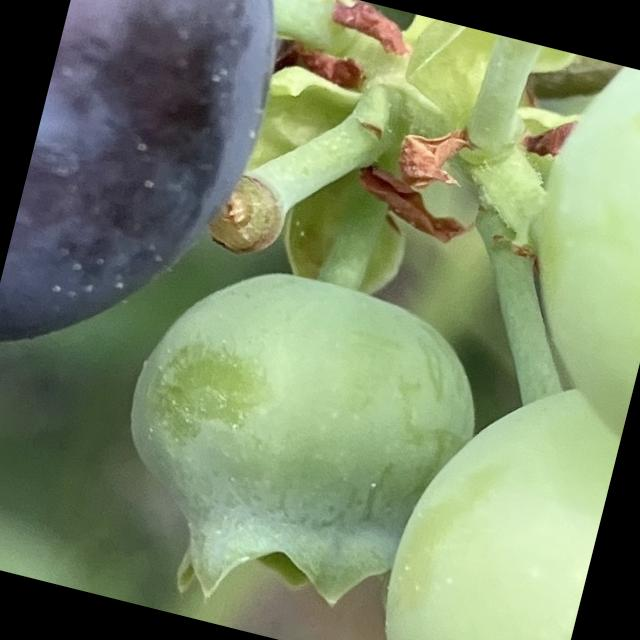Blueberries: (482, 54, 640, 466)
